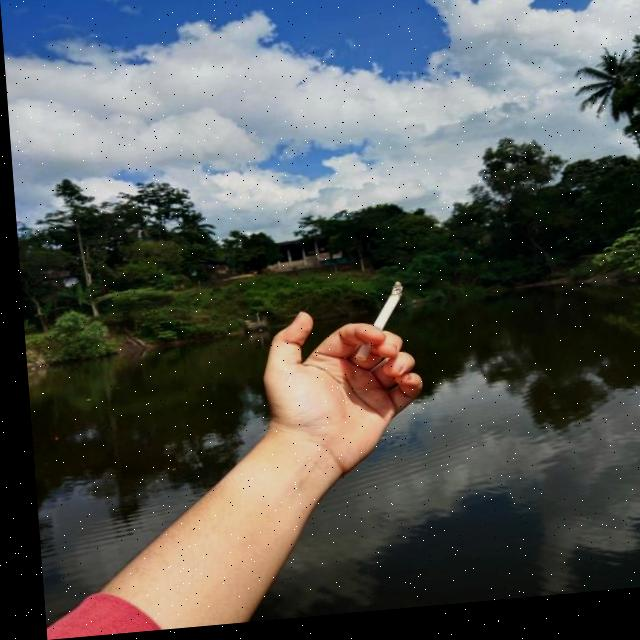cigarette: (346, 289, 403, 367)
